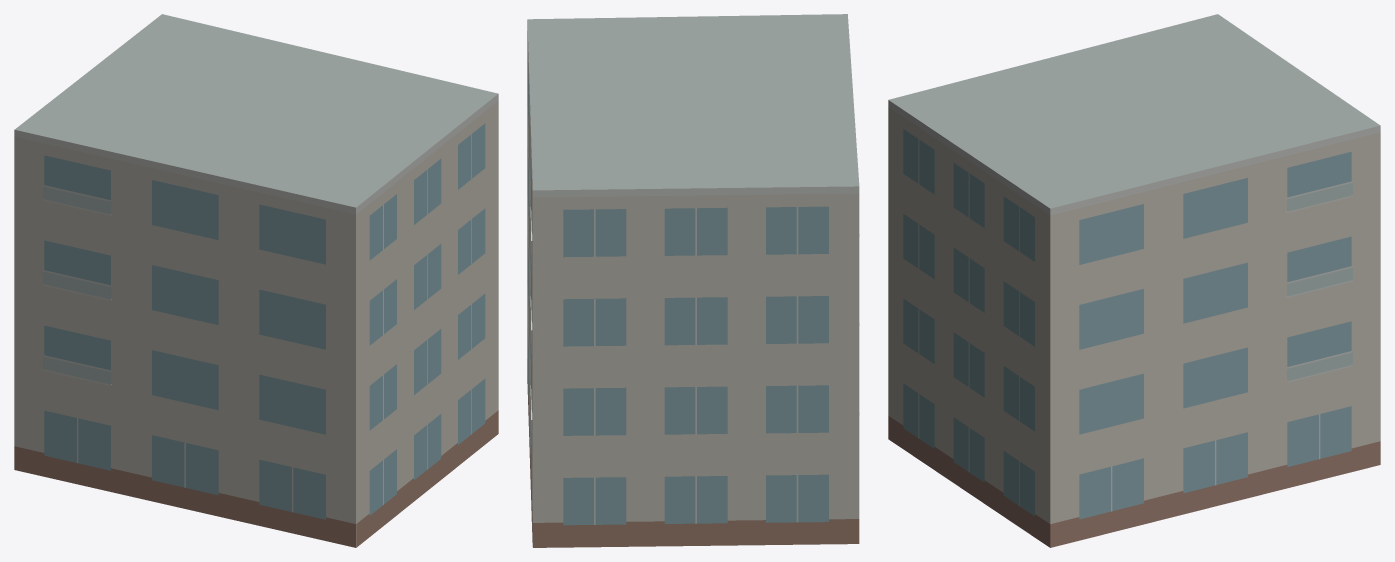
Rendered from survey-upis-32865188.glb.
3 views of the same model, side by side, from view 1: azimuth 30°, elevation 25°; view 2: azimuth 150°, elevation 25°; view 3: azimuth 270°, elevation 25° (orthographic). The views are drawn at different scales.
Visible parts, largest first — view 1: survey-upis-32865188.tmp; view 2: survey-upis-32865188.tmp; view 3: survey-upis-32865188.tmp.
Part boxes in pixels (x1,y1,x2,y2): survey-upis-32865188.tmp: [14, 14, 498, 547]; survey-upis-32865188.tmp: [527, 14, 859, 547]; survey-upis-32865188.tmp: [888, 14, 1380, 547].
Size of the model in its own units: 15.02 by 12.2 by 16.06.
